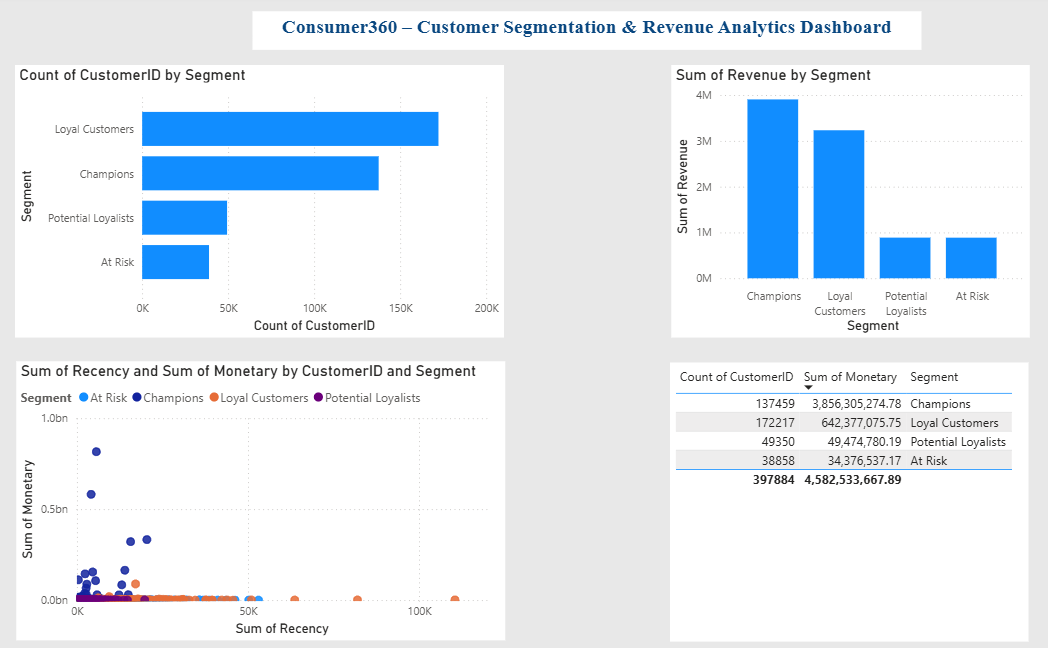

Layout of this report page (visuals, bound fields, positions):
{"tool":"powerbi","page":{"name":"Page 1","canvas":[1280,720],"ordinal":0},"visuals":[{"type":"clusteredBarChart","fields":{"Category":["final_dataset.Segment"],"Y":["CountNonNull(final_dataset.CustomerID)"]},"box":[65.9,76.8,536.5,299.1],"z":0},{"type":"columnChart","fields":{"Category":["final_dataset.Segment"],"Y":["Sum(final_dataset.Revenue)"]},"box":[786.3,76.8,393.8,299.1],"z":1000},{"type":"scatterChart","fields":{"X":["Sum(final_dataset.Recency)"],"Y":["Sum(final_dataset.Monetary)"],"Series":["final_dataset.Segment"],"Category":["final_dataset.CustomerID"]},"box":[67.2,402.1,536.5,306],"z":2000},{"type":"tableEx","fields":{"Values":["CountNonNull(final_dataset.CustomerID)","Sum(final_dataset.Monetary)","final_dataset.Segment"]},"box":[784.9,403.4,393.8,306],"z":3000},{"type":"textbox","box":[326.6,17.8,734.1,42.5],"z":4000}]}

Visuals, with their boxes on the page's 1280x720 design canvas (x1, y1, x2, y2). These are canvas units, not pixel positions in the 1048x648 screenshot, which may show the page scaled, cropped or inside an application window:
clusteredBarChart - final_dataset.Segment x CountNonNull(final_dataset.CustomerID): bbox=[66, 77, 602, 376]
columnChart - final_dataset.Segment x Sum(final_dataset.Revenue): bbox=[786, 77, 1180, 376]
scatterChart - Sum(final_dataset.Recency) x Sum(final_dataset.Monetary): bbox=[67, 402, 604, 708]
tableEx - CountNonNull(final_dataset.CustomerID) x Sum(final_dataset.Monetary): bbox=[785, 403, 1179, 709]
textbox: bbox=[327, 18, 1061, 60]
